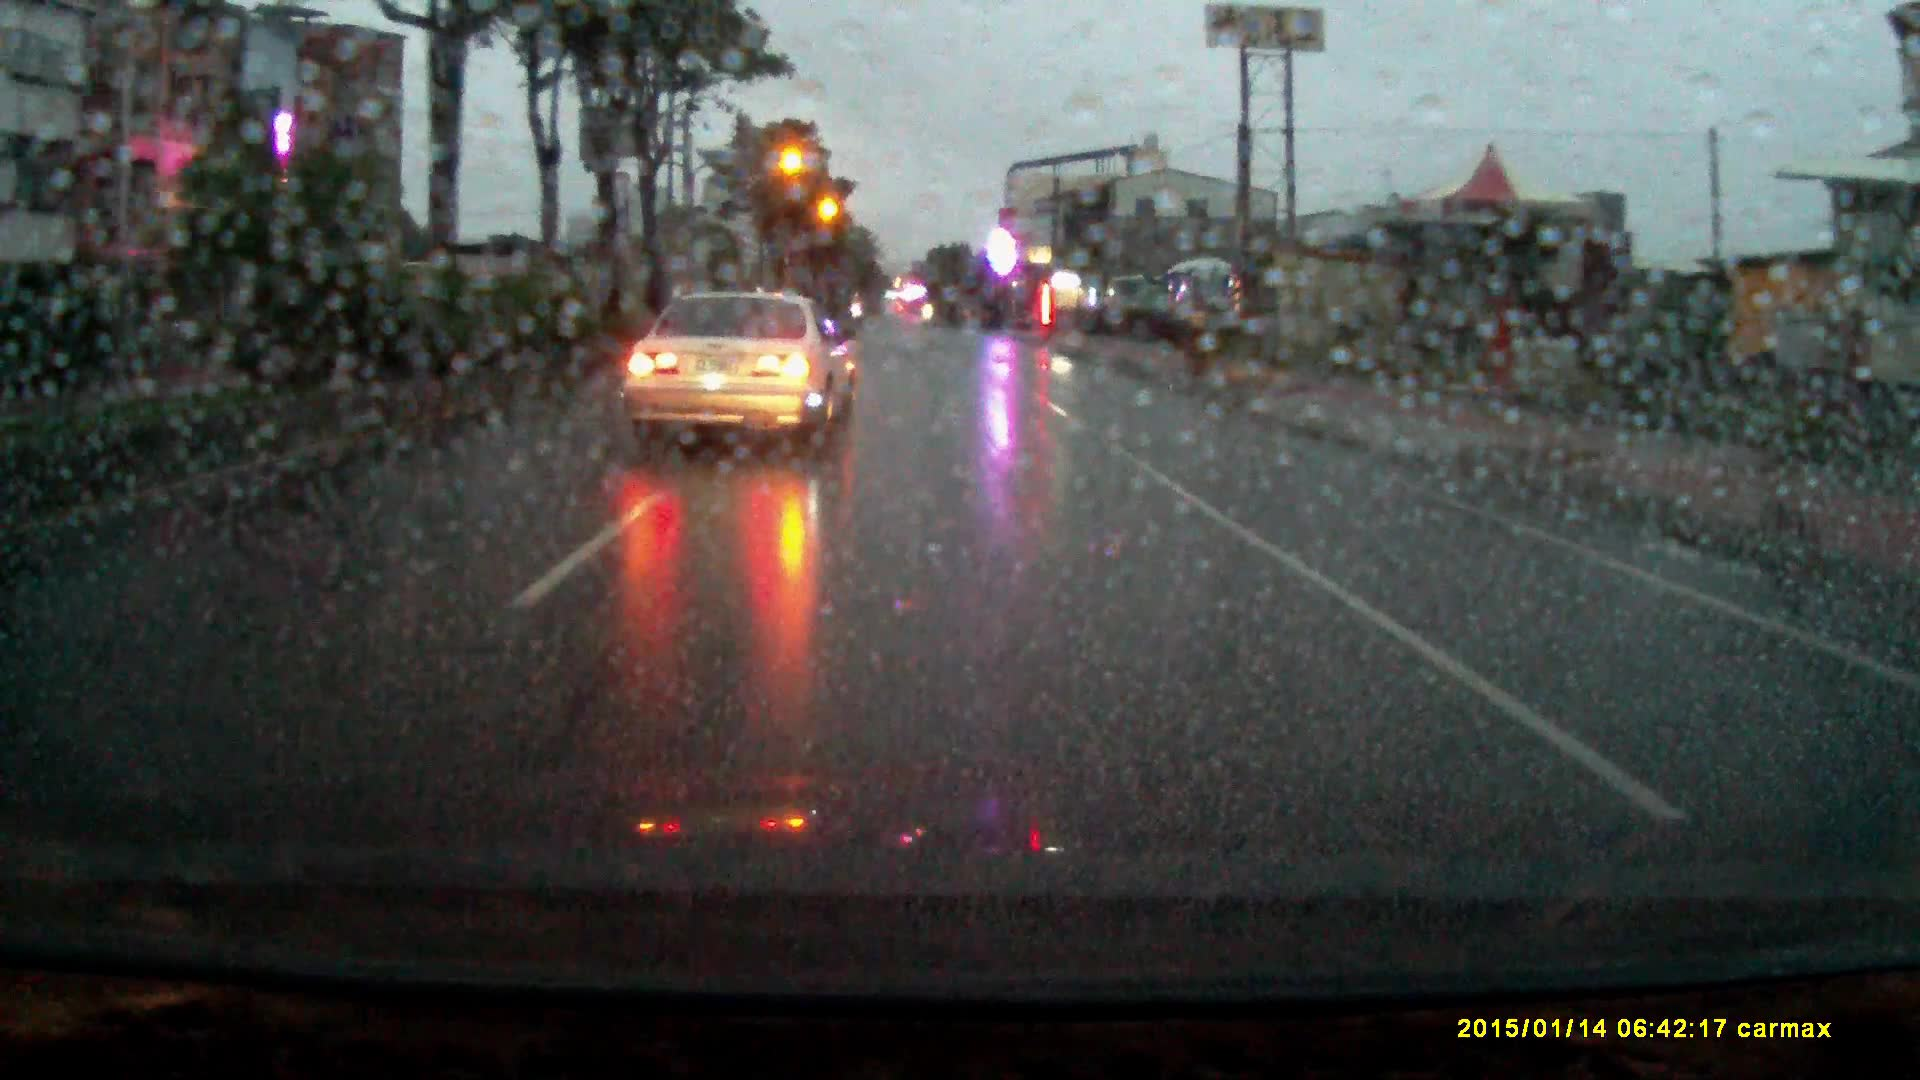vehicle: (618, 287, 862, 456), (1167, 261, 1244, 343), (1105, 276, 1154, 328)
